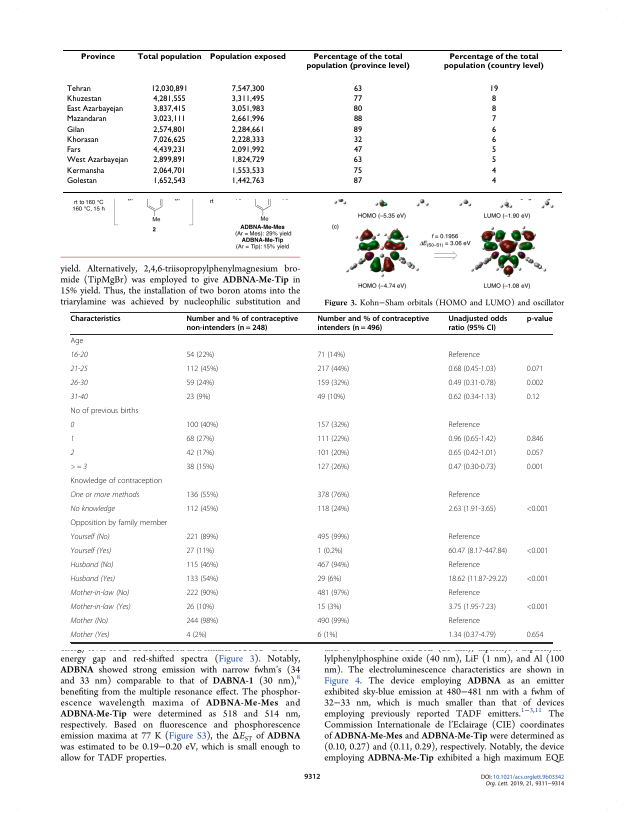borderless: (69, 311, 552, 642), (62, 48, 562, 192)
cell: (185, 315, 299, 333), (316, 315, 430, 333), (305, 53, 410, 71), (443, 53, 544, 71), (447, 315, 508, 333), (70, 519, 168, 529), (70, 477, 163, 487), (209, 53, 286, 62), (70, 407, 139, 417), (70, 491, 140, 500), (447, 547, 508, 557), (447, 575, 508, 585), (136, 53, 202, 62), (65, 156, 129, 165), (70, 603, 132, 612), (70, 589, 130, 598), (65, 105, 124, 114), (447, 365, 497, 375), (447, 379, 497, 389), (447, 393, 497, 403), (447, 435, 497, 445), (447, 449, 497, 459), (447, 463, 497, 473), (447, 505, 497, 515), (447, 603, 497, 613), (447, 631, 497, 641), (70, 315, 122, 324), (70, 505, 116, 515), (70, 575, 116, 584), (65, 166, 105, 176), (70, 561, 114, 570), (150, 84, 188, 94), (70, 547, 112, 556), (65, 115, 107, 124), (65, 94, 102, 104), (70, 533, 111, 542), (70, 631, 110, 640), (70, 617, 109, 626), (230, 84, 265, 94), (230, 94, 265, 104), (230, 125, 265, 135), (230, 135, 265, 145), (230, 166, 265, 176), (230, 176, 265, 186), (447, 351, 481, 361), (185, 365, 219, 375), (316, 365, 350, 375), (316, 379, 350, 389), (185, 421, 219, 431), (316, 421, 350, 431), (447, 421, 481, 431), (316, 435, 350, 445), (316, 449, 350, 459), (316, 463, 350, 473), (185, 491, 219, 501), (316, 491, 350, 501), (447, 491, 481, 501), (185, 505, 219, 515), (316, 505, 350, 515), (185, 533, 219, 543), (316, 533, 350, 543), (447, 533, 481, 543), (185, 561, 219, 571), (316, 561, 350, 571), (447, 561, 481, 571), (185, 575, 219, 585), (185, 589, 219, 599), (316, 589, 350, 599), (447, 589, 481, 599), (185, 617, 219, 627), (316, 617, 350, 627), (447, 617, 481, 627), (152, 94, 186, 104), (152, 125, 186, 135), (65, 135, 99, 145), (152, 135, 186, 145), (152, 166, 186, 176), (152, 176, 186, 186), (65, 176, 97, 186), (80, 53, 115, 62), (230, 105, 265, 114), (230, 115, 265, 124), (230, 146, 265, 155), (230, 156, 265, 165), (152, 105, 186, 114), (152, 115, 186, 124), (152, 146, 186, 155), (152, 156, 186, 165), (185, 351, 215, 361), (316, 351, 346, 361), (185, 379, 215, 389), (316, 393, 346, 403), (185, 435, 215, 445), (185, 449, 215, 459), (185, 463, 215, 473), (185, 547, 215, 557), (185, 603, 215, 613), (316, 547, 344, 557), (185, 393, 211, 403), (316, 575, 342, 585), (316, 603, 342, 613), (65, 84, 91, 94), (526, 315, 553, 324), (526, 505, 549, 515), (526, 547, 549, 557), (526, 575, 549, 585), (526, 603, 549, 613), (185, 631, 207, 641), (316, 631, 338, 641), (65, 125, 85, 135), (526, 365, 544, 375), (526, 379, 544, 389), (526, 435, 544, 445), (526, 449, 544, 459), (526, 463, 544, 473), (526, 631, 544, 641), (70, 351, 88, 360), (70, 365, 88, 374), (70, 379, 88, 388), (70, 393, 88, 402), (70, 463, 88, 472), (526, 393, 541, 403), (65, 146, 81, 155), (70, 337, 84, 347), (352, 84, 363, 94), (488, 84, 499, 94), (352, 94, 363, 104), (352, 125, 363, 135), (352, 135, 363, 145), (352, 166, 363, 176), (352, 176, 363, 186), (352, 105, 363, 114), (352, 115, 363, 124), (352, 146, 363, 155), (352, 156, 363, 165), (490, 135, 497, 145), (490, 176, 497, 186), (490, 105, 497, 114), (490, 115, 497, 124), (490, 146, 497, 155), (490, 156, 497, 165), (490, 94, 496, 104), (490, 125, 496, 135), (490, 166, 496, 176), (70, 421, 75, 430), (70, 435, 75, 444), (70, 449, 75, 458)
